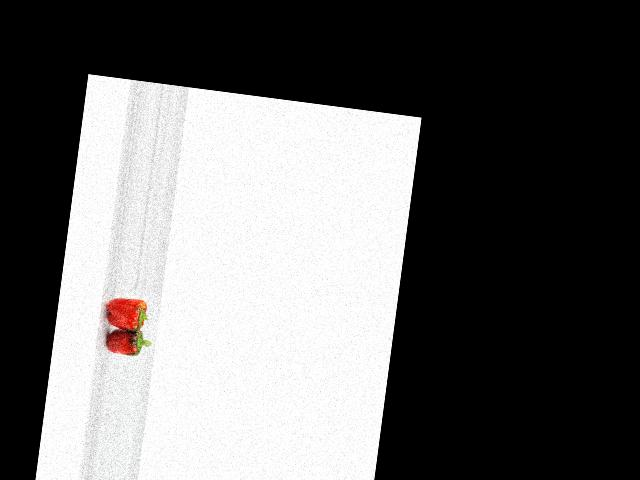bell_pepper: (103, 290, 154, 332)
